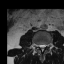CCS_normal: (41, 41, 43, 53)
LFS_normal: (46, 41, 48, 48)
LLS_normal: (43, 41, 46, 49)
RFS_normal: (36, 41, 39, 49)
RLS_normal: (39, 41, 41, 49)
